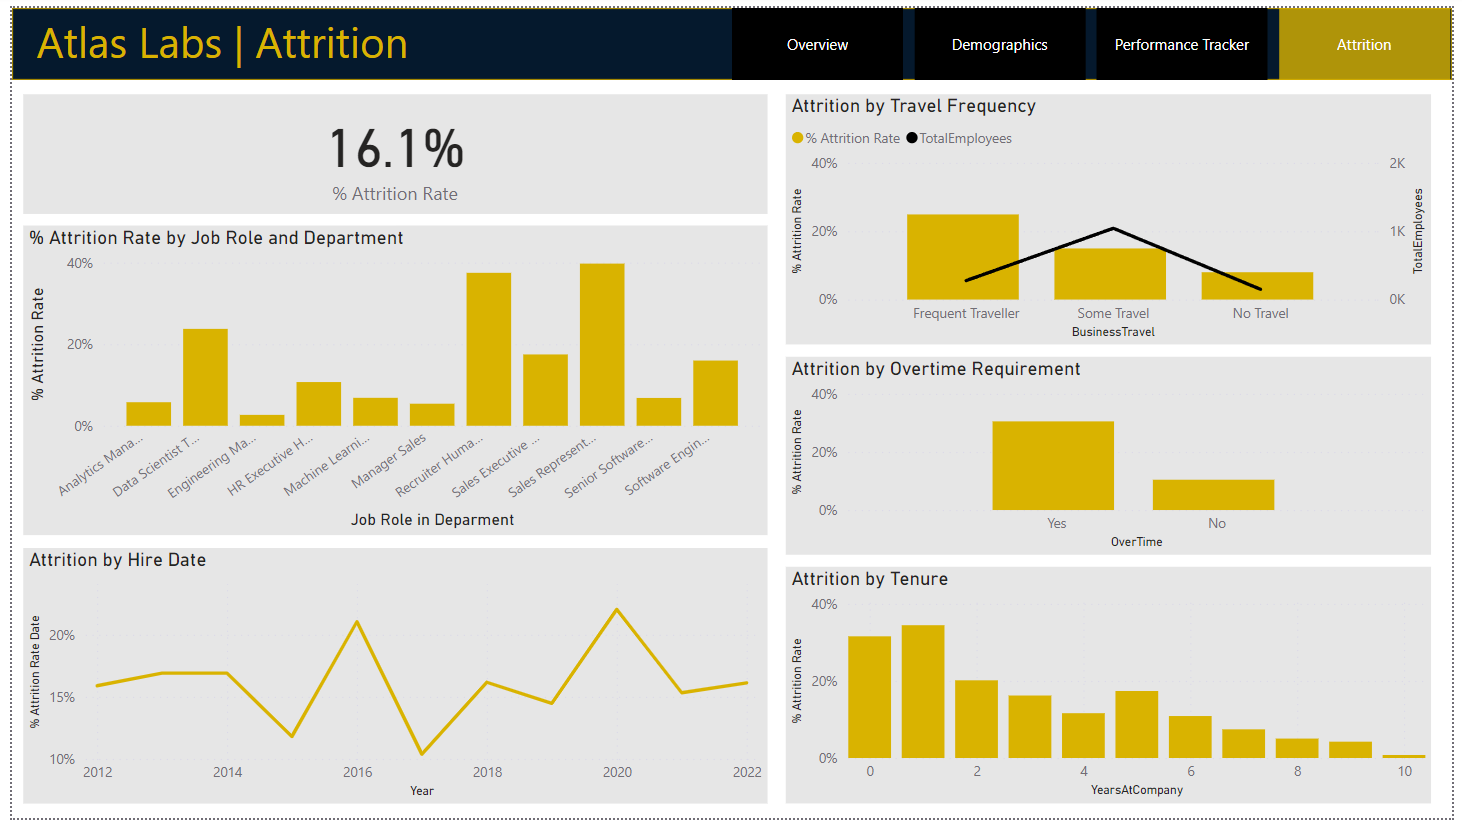

The dashboard page shown, as its layout file describes it:
{"tool":"powerbi","page":{"name":"Attrition","canvas":[1280,720],"ordinal":3},"visuals":[{"type":"card","fields":{"Values":["_Measures.% Attrition Rate"]},"box":[10,76.2,661.2,106.2],"z":0},{"type":"columnChart","title":"% Attrition Rate by Job Role and Department","fields":{"Y":["_Measures.% Attrition Rate"],"Category":["DimEmployee.JobRole","DimEmployee.Department"]},"box":[10,193.8,661.2,275],"z":1000},{"type":"lineChart","title":"Attrition by Hire Date","fields":{"Y":["_Measures.% Attrition Rate Date"],"Category":["DimDate.Year"]},"box":[10,480,661.2,227.5],"z":2000},{"type":"lineStackedColumnComboChart","title":"Attrition by Travel Frequency","fields":{"Y":["_Measures.% Attrition Rate"],"Y2":["_Measures.TotalEmployees"],"Category":["DimEmployee.BusinessTravel"]},"box":[687.5,76.2,573.8,222.5],"z":3000},{"type":"columnChart","title":"Attrition by Overtime Requirement","fields":{"Category":["DimEmployee.OverTime"],"Y":["_Measures.% Attrition Rate"]},"box":[687.5,310,573.8,176.2],"z":4000},{"type":"columnChart","title":"Attrition by Tenure","fields":{"Y":["_Measures.% Attrition Rate"],"Category":["DimEmployee.YearsAtCompany"]},"box":[687.5,496.2,573.8,210],"z":5000},{"type":"shape","box":[0,0,1280,64],"z":6000},{"type":"textbox","box":[16.2,0,447.5,63.8],"z":7000},{"type":"pageNavigator","box":[640,0,640,64],"z":8000}]}

Visuals, with their boxes in screenshot pixels (x1, y1, x2, y2), scaled from the page's 1280x720 canvas onto the 1462x834 screenshot:
card - _Measures.% Attrition Rate: box=[11, 88, 767, 211]
"% Attrition Rate by Job Role and Department" columnChart: box=[11, 224, 767, 543]
"Attrition by Hire Date" lineChart: box=[11, 556, 767, 820]
"Attrition by Travel Frequency" lineStackedColumnComboChart: box=[785, 88, 1441, 346]
"Attrition by Overtime Requirement" columnChart: box=[785, 359, 1441, 563]
"Attrition by Tenure" columnChart: box=[785, 575, 1441, 818]
shape: box=[0, 0, 1461, 74]
textbox: box=[19, 0, 530, 74]
pageNavigator: box=[731, 0, 1461, 74]
